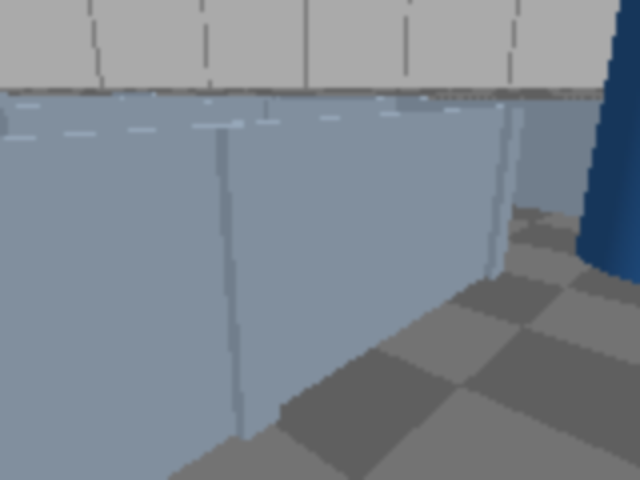person: (578, 0, 638, 286)
